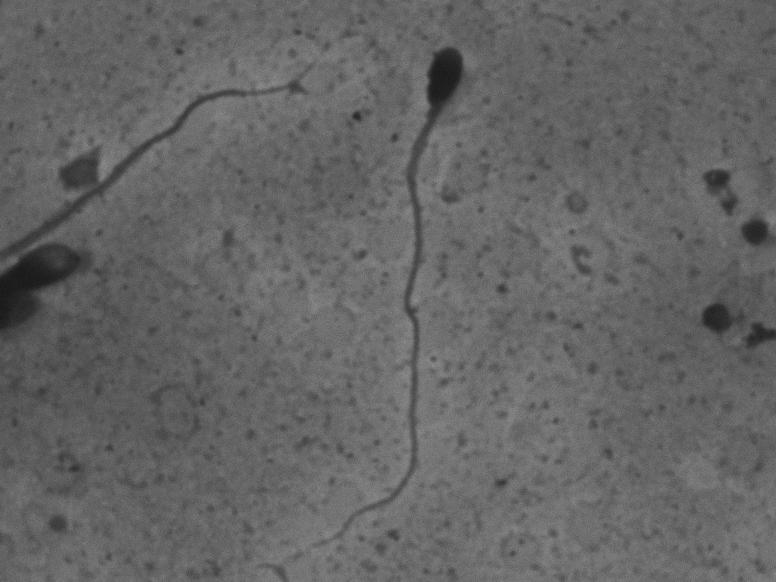Normal: (296, 30, 490, 563)
